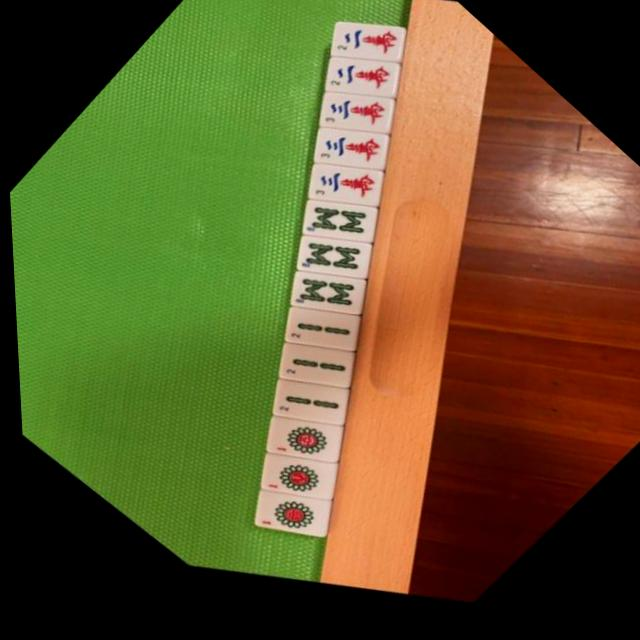sb2: (251, 355, 364, 464), (257, 317, 369, 426), (265, 283, 373, 388)
sb8: (270, 245, 380, 352), (283, 173, 391, 278), (278, 210, 385, 314)
sc2: (309, 30, 415, 132), (315, 0, 419, 93)
sc3: (288, 135, 401, 243), (295, 101, 402, 205), (304, 66, 408, 167)
sd1: (245, 393, 357, 501), (234, 470, 342, 575), (242, 435, 347, 537)
